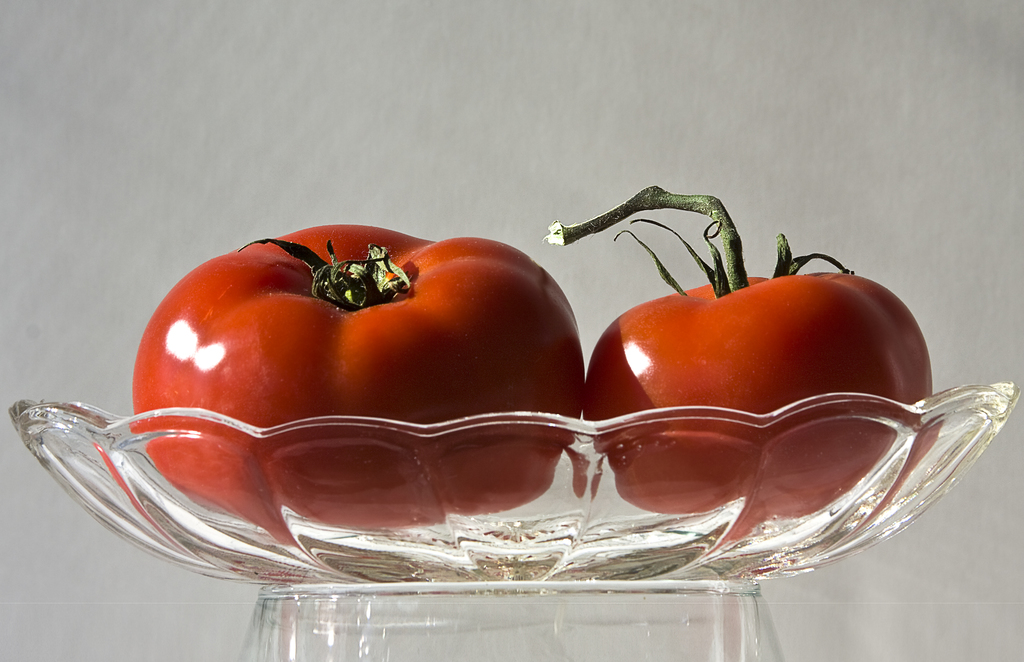Tomato: (125, 217, 583, 537), (544, 182, 933, 551)
